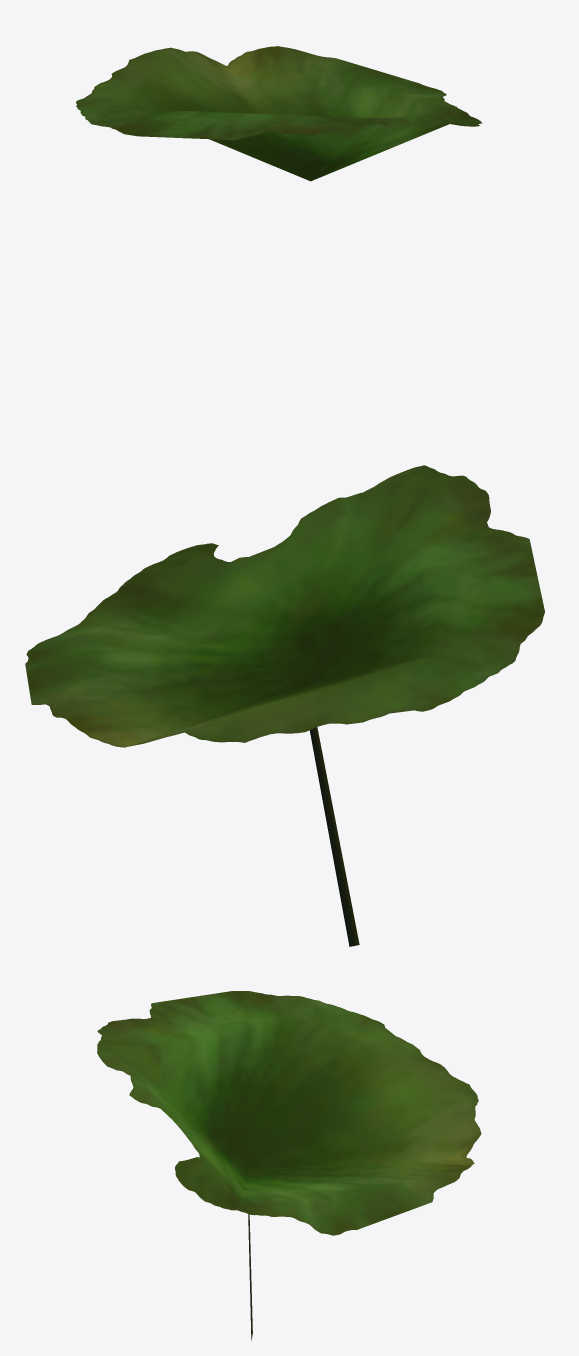
The model's file is environment_Tree_heye_002_b.FBX.
3 renders of one model, top to bottom at view 1: azimuth 30°, elevation 25°; view 2: azimuth 150°, elevation 25°; view 3: azimuth 270°, elevation 25°, orthographic. The views are drawn at different scales.
Visible parts, largest first — view 1: environment_Tree_heye_002_b; view 2: environment_Tree_heye_002_b; view 3: environment_Tree_heye_002_b.
Boxes of the visible parts, x1=… form: environment_Tree_heye_002_b: x1=75, y1=46, x2=482, y2=181; environment_Tree_heye_002_b: x1=25, y1=465, x2=544, y2=946; environment_Tree_heye_002_b: x1=97, y1=991, x2=481, y2=1340.
Size of the model in its own units: 82.59 by 52.78 by 82.78.
Materials: 1 (1 with a texture image).
